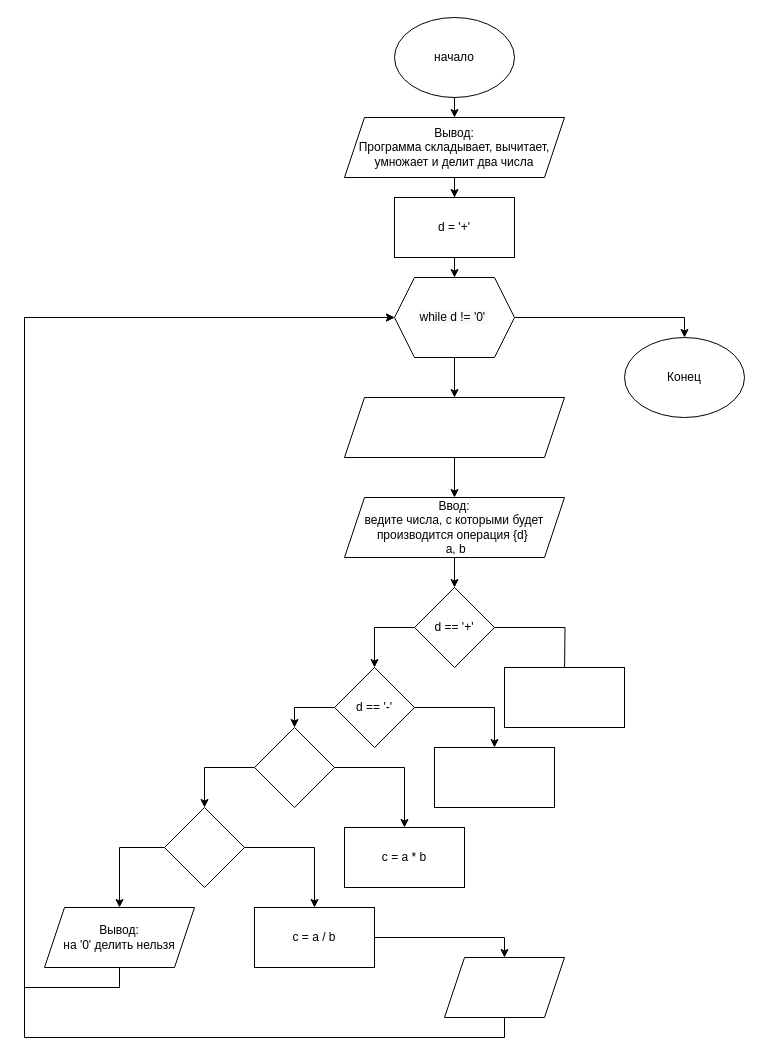
Some shapes in this 762 by 1063 pixel diagram are drawn without their labels. The shapes that lost their labels are listed below. From the top down, each one's box as (x1, y1, x2, y2) in pixels, then its label:
(344, 396, 564, 458): Ввод: введите символ действия: ( '0', '+', '-', '*', '/'), d
(504, 666, 624, 728): с = a + b
(254, 726, 334, 808): d == '*'
(434, 746, 554, 808): с = a - b
(164, 806, 244, 888): b <>0
(444, 956, 564, 1018): Вывод: а {d} b "=" c
